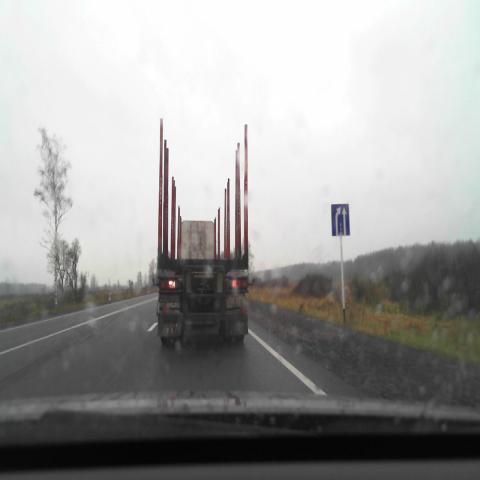5_15_5: (331, 203, 350, 236)
